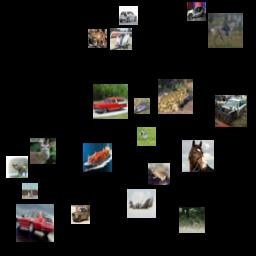airplane: (127, 189, 156, 218), (110, 28, 132, 50), (134, 98, 150, 114)
automobile: (16, 204, 54, 242), (93, 84, 128, 119), (215, 95, 247, 127), (187, 2, 206, 21), (71, 205, 90, 224), (119, 6, 138, 25)
bird: (137, 127, 156, 146)
deer: (30, 138, 56, 164), (179, 207, 205, 233), (6, 156, 28, 178)
frog: (158, 79, 193, 114), (148, 163, 170, 185), (88, 29, 107, 48)
ship: (83, 143, 112, 172), (22, 183, 38, 199)
